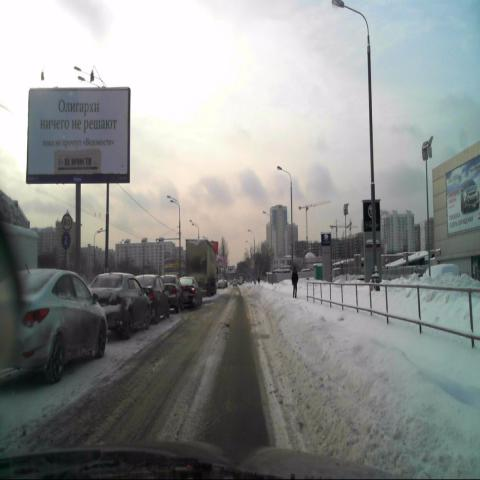3_24: (62, 211, 72, 231)
3_30: (60, 230, 70, 248)
